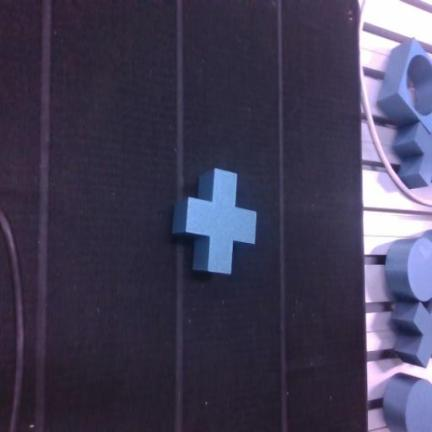cross: (173, 169, 256, 274), (394, 123, 431, 188)
